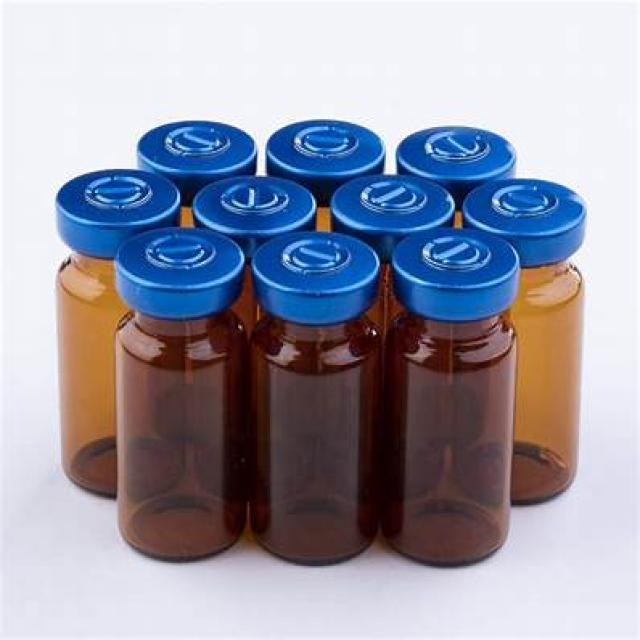vial: (468, 170, 590, 248), (331, 176, 458, 236), (196, 170, 318, 232), (116, 228, 237, 282), (393, 126, 511, 180), (397, 224, 502, 282), (258, 234, 372, 286), (140, 124, 252, 176), (271, 120, 371, 174), (65, 175, 177, 222)
